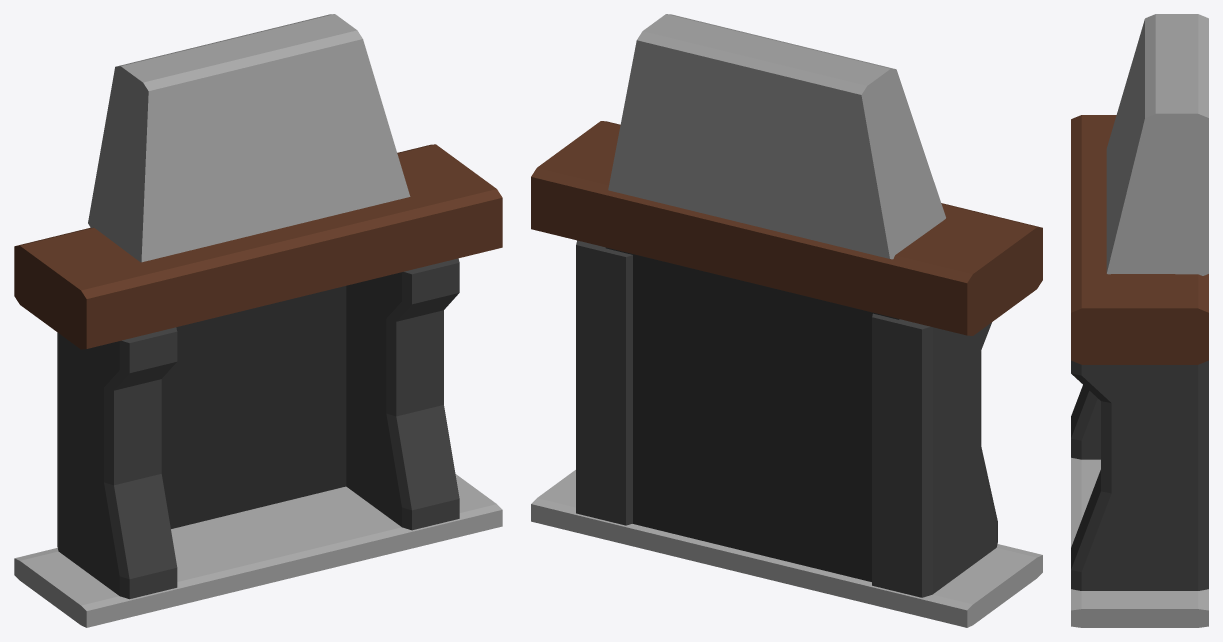
Rendered from Cheminee.glb.
3 renders of one model, left to right at view 1: azimuth 30°, elevation 25°; view 2: azimuth 150°, elevation 25°; view 3: azimuth 270°, elevation 25°, orthographic. The views are drawn at different scales.
Parts seen in each view (by area): view 1: cheminee, fond; view 2: cheminee, fond; view 3: cheminee.
Part boxes in pixels (left/top/right/bottom): cheminee: left=14, top=14, right=502, bottom=627; fond: left=161, top=286, right=346, bottom=528; cheminee: left=531, top=14, right=1042, bottom=627; fond: left=605, top=247, right=899, bottom=581; cheminee: left=1071, top=14, right=1208, bottom=627.
Bounding box in the file's own units: 4.42 × 4.97 × 1.33.
1 material, 1 textured.
